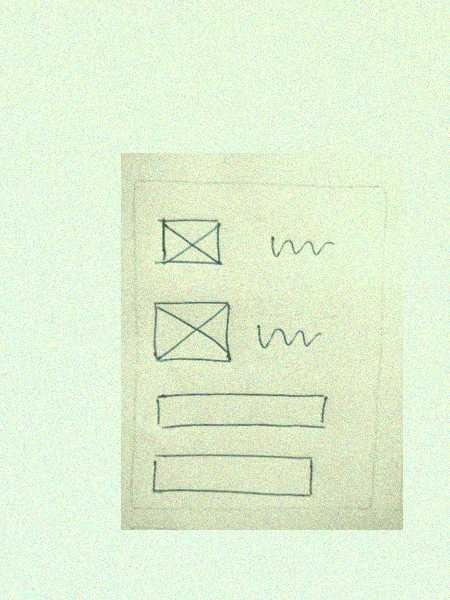image: (148, 295, 236, 370), (151, 211, 229, 274)
text: (261, 227, 343, 269), (247, 317, 329, 359)
text_input: (146, 449, 327, 500), (153, 386, 334, 436)
